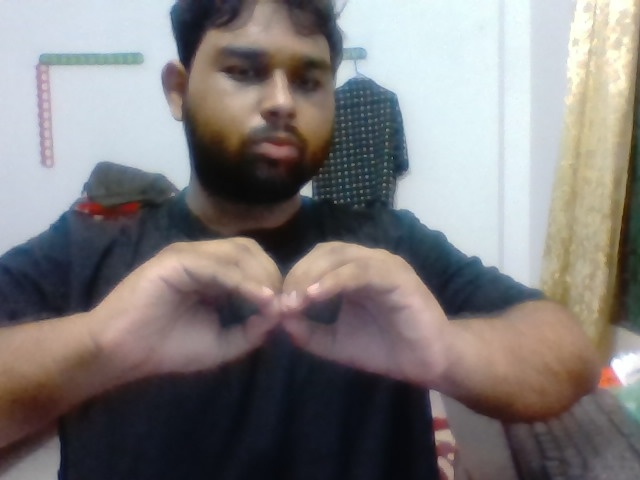B: (112, 226, 462, 398)
